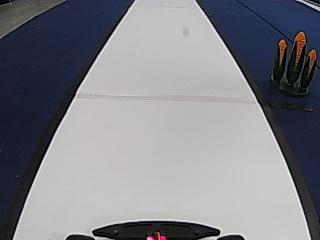corn: (263, 30, 319, 94)
